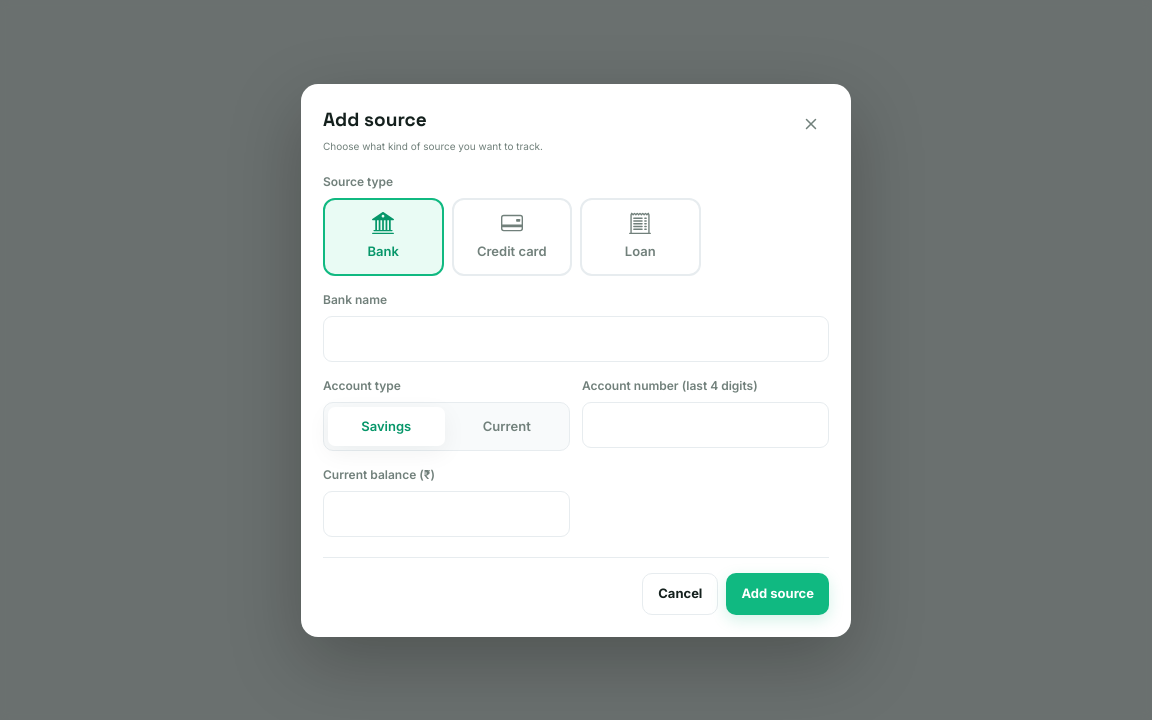
Test: SourceFormModal (add) › shows errors and does not save an empty form
The image size is (1152, 720).
Click the button "Add source".
click(778, 594)  # box 726,573 -> 829,614
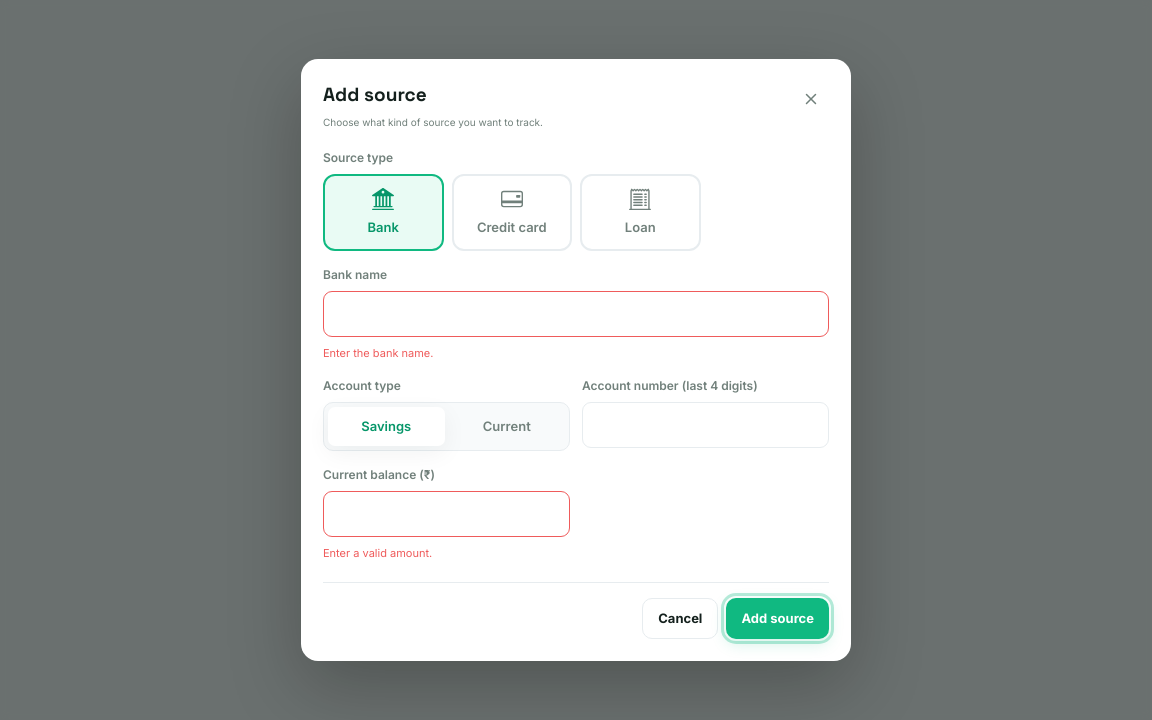
Now the text "Enter the bank name." is shown, box 323,346 -> 433,360
Now the text "Enter a valid amount." is shown, box 323,546 -> 432,560
